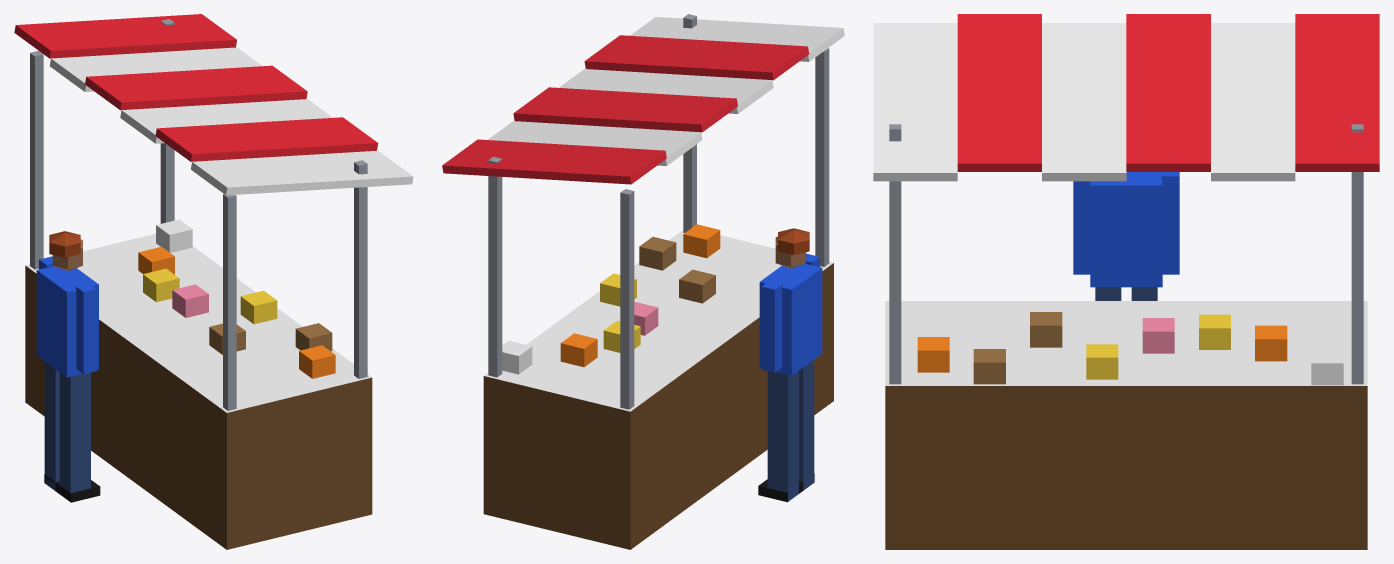
Rendered from puesto_fiesta.obj.
3 views of the same model, side by side, from view 1: azimuth 30°, elevation 25°; view 2: azimuth 150°, elevation 25°; view 3: azimuth 270°, elevation 25° (orthographic). The views are drawn at different scales.
Visible parts, largest first — view 1: puesto_fiesta; view 2: puesto_fiesta; view 3: puesto_fiesta.
Part boxes in pixels (bbox=[...]): puesto_fiesta: bbox=[14, 14, 413, 549]; puesto_fiesta: bbox=[442, 14, 844, 549]; puesto_fiesta: bbox=[873, 14, 1379, 549].
Bounding box in the file's own units: 1.78 × 2.46 × 2.52.
